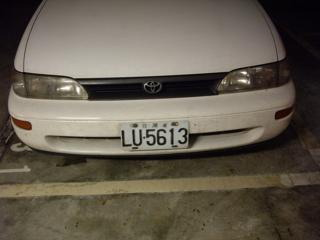plate: (116, 119, 191, 150)
